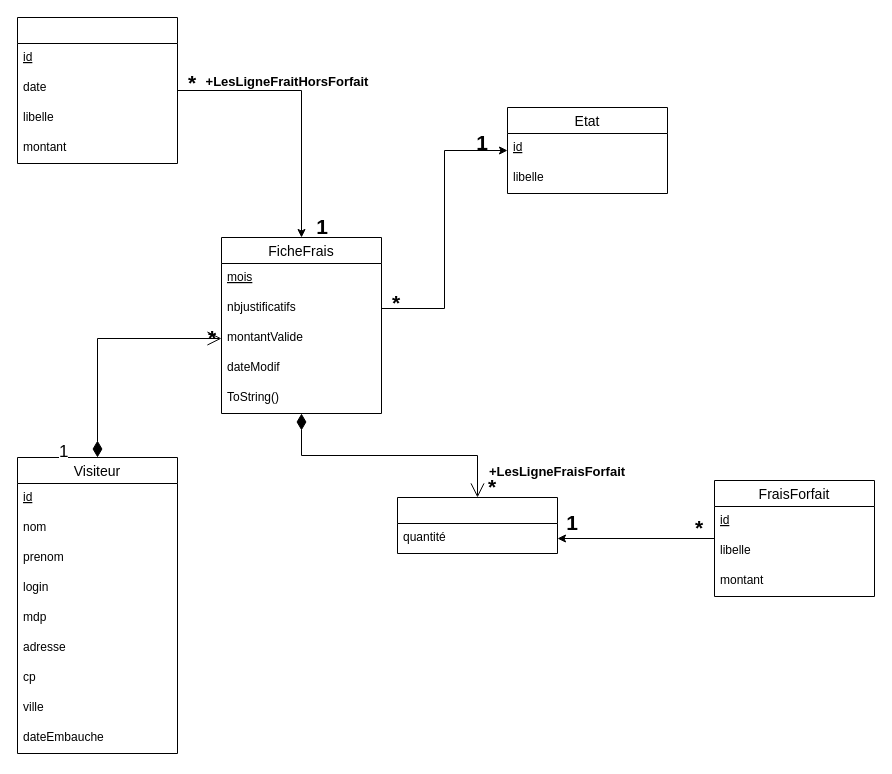
Image size: 892x774. Some labels were removed from this diagram. The shapes that lost their labels are listed below. From the top down, each one's box as (x1, y1, x2, y2) in pixels, then its label:
(16, 16, 178, 164): LigneFraisHorsForfaits
(396, 496, 558, 554): LigneFraisForfaits
